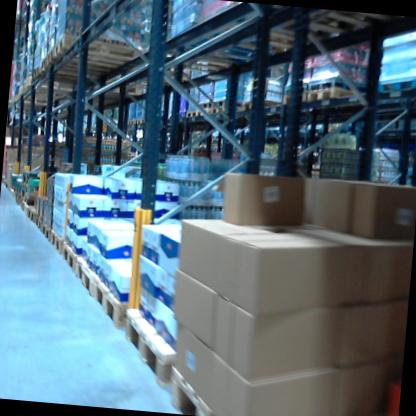pallet: (116, 302, 192, 400), (245, 5, 377, 42), (165, 32, 297, 67), (207, 12, 300, 59), (47, 29, 145, 73), (90, 274, 142, 339), (46, 43, 141, 74), (71, 251, 115, 311), (165, 367, 218, 416), (30, 62, 108, 88), (305, 84, 364, 116), (371, 73, 416, 108), (40, 55, 108, 75), (59, 240, 86, 278), (46, 224, 70, 261), (242, 96, 282, 118), (281, 87, 310, 113), (211, 105, 248, 123), (37, 218, 52, 243), (195, 105, 212, 121), (30, 211, 42, 231), (185, 107, 199, 121), (26, 204, 33, 226), (127, 118, 136, 127), (134, 118, 141, 127), (141, 118, 148, 126)
